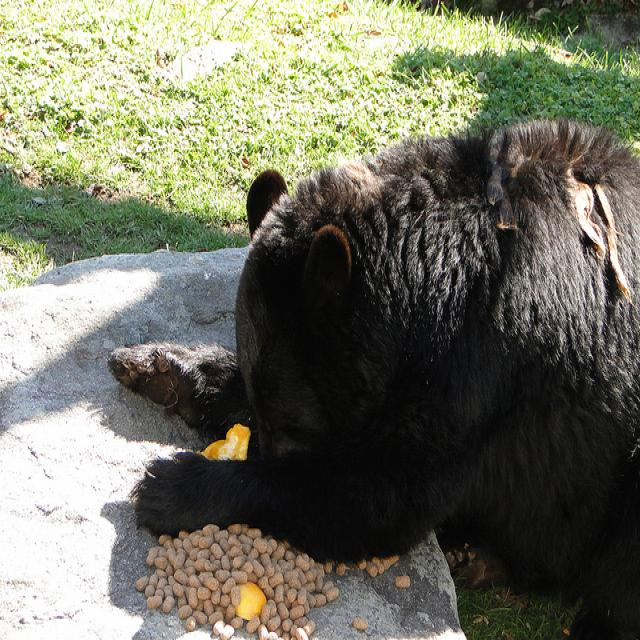Bear: (94, 107, 640, 603)
